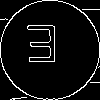E: (25, 25, 59, 71)
